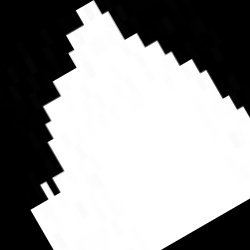spot: (32, 2, 249, 249)
